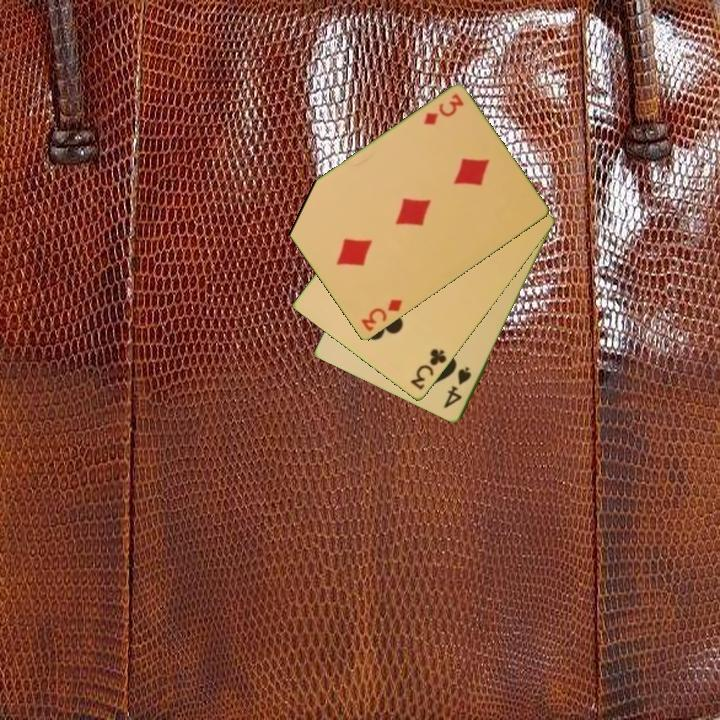3c: (407, 345, 450, 393)
3d: (357, 296, 405, 335), (420, 90, 467, 128)
4s: (440, 364, 475, 412)
